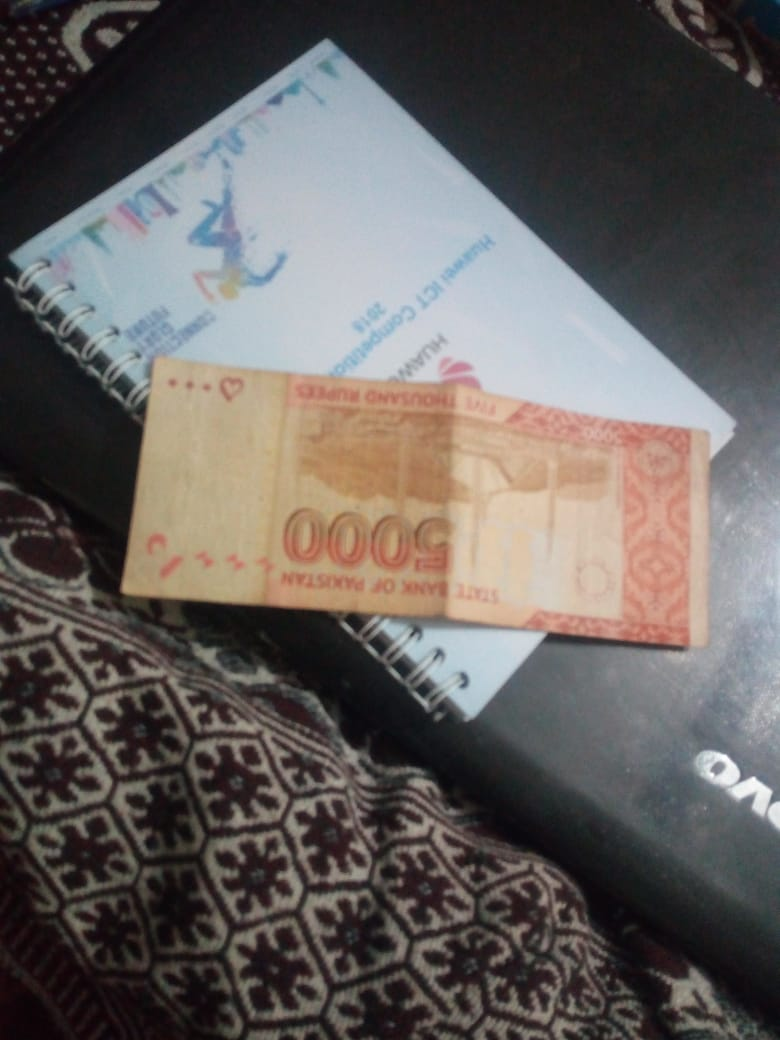5000 rupee: (96, 350, 715, 684)
